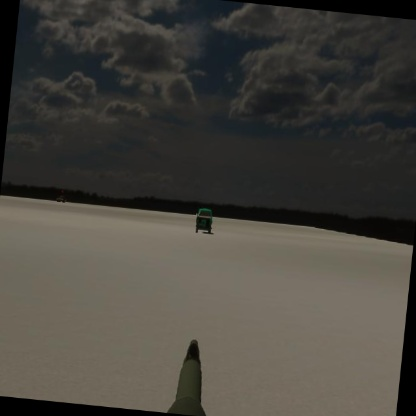green_car: (193, 206, 215, 235)
